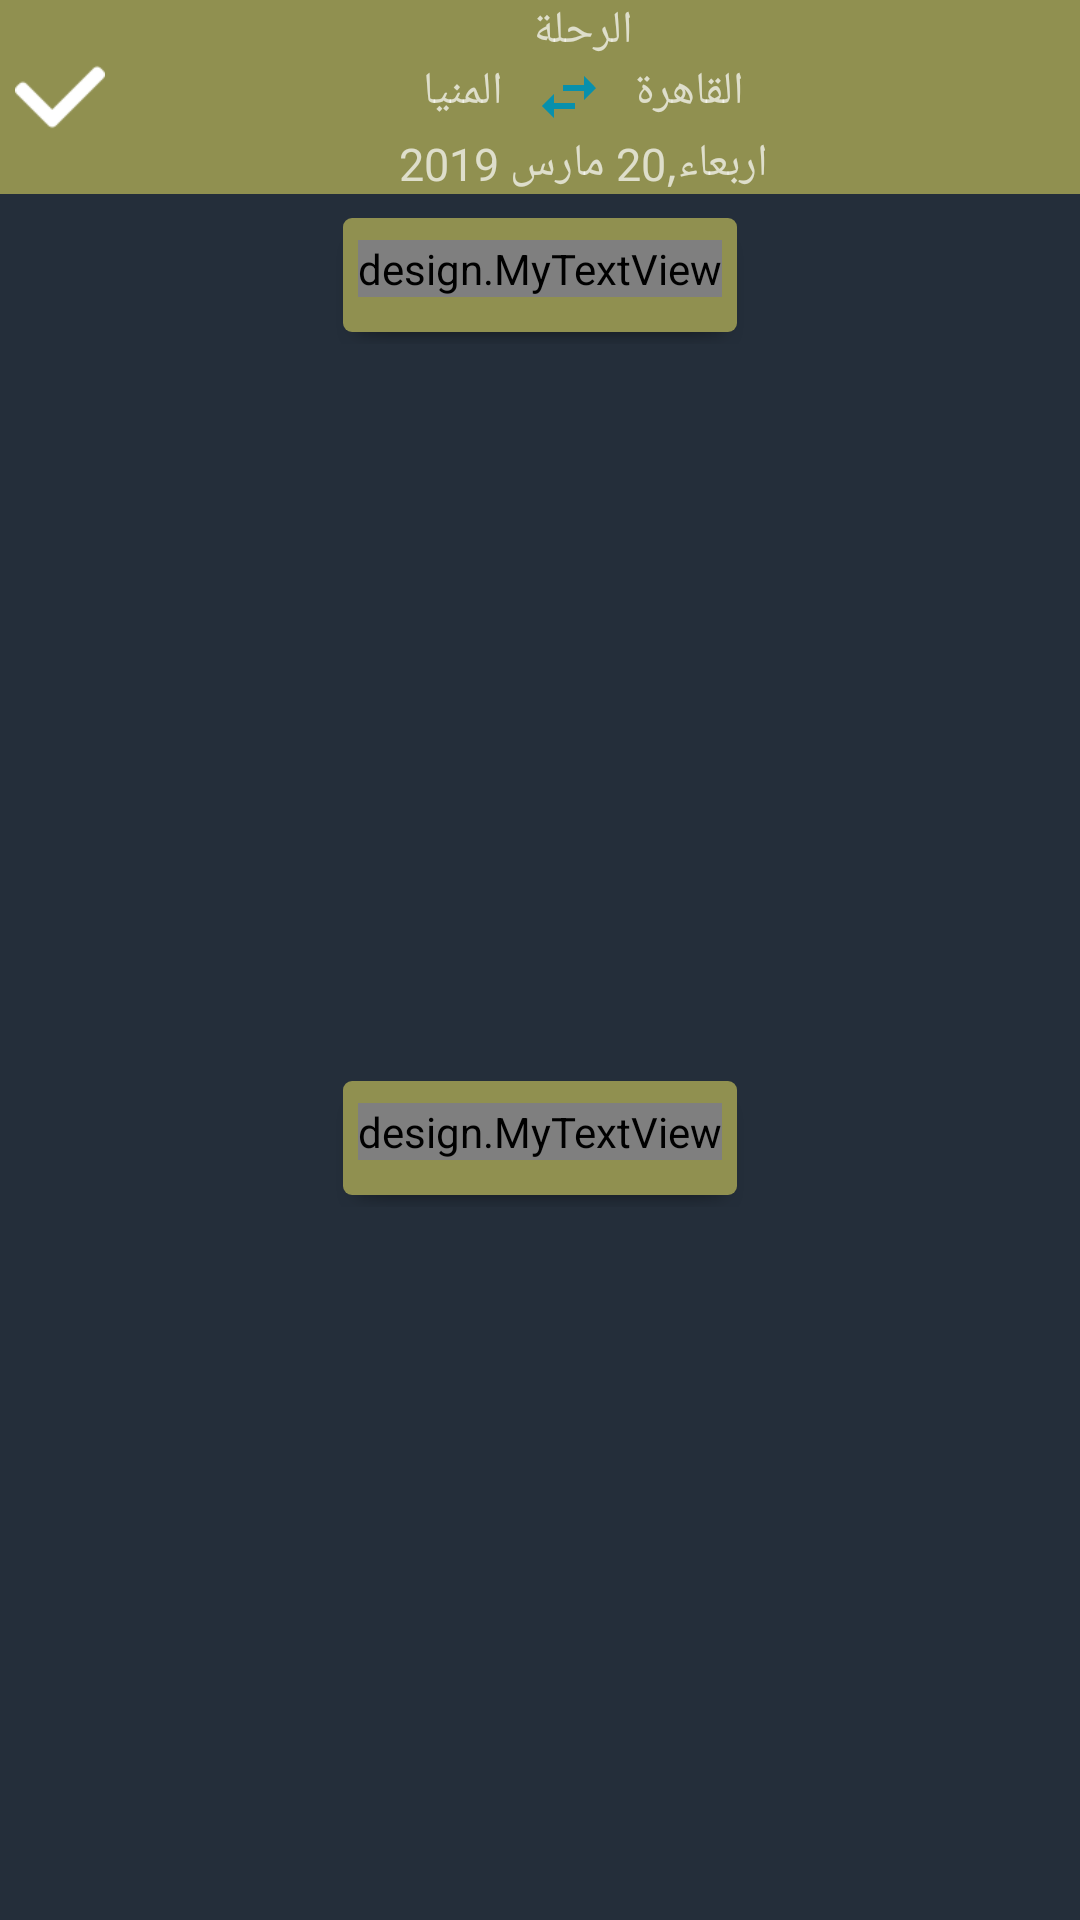

Point at icon controls on the screen. Image size 1080w x 1920h, points as [x,y].
confirmed: [60,97]
swap: [569,97]
